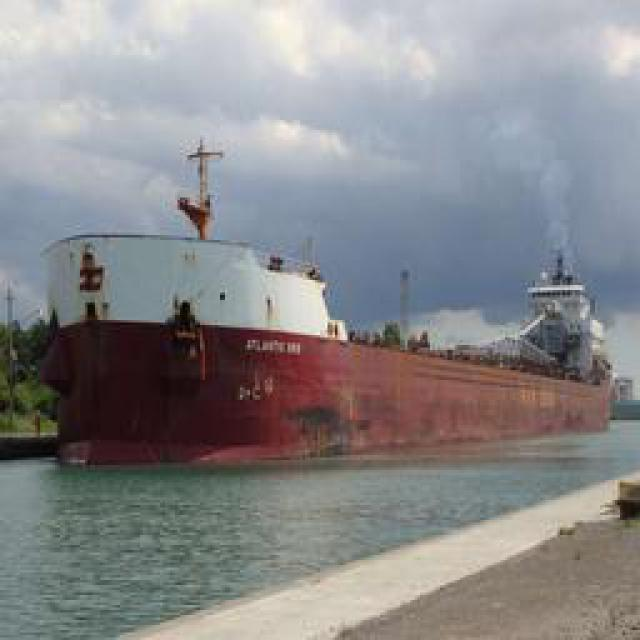Ship: (47, 211, 600, 466)
